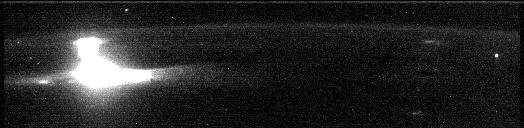positive: (66, 33, 106, 63)
